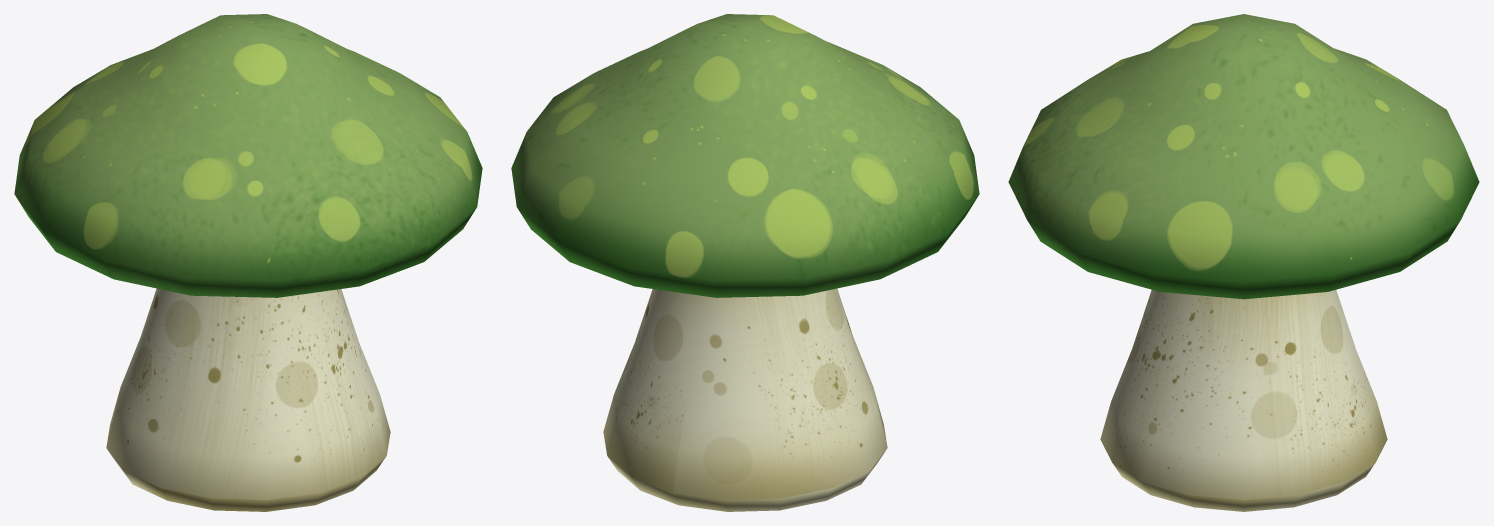
The model's file is MyceliumA.fbx.
The picture shows the model from 3 angles, left to right: view 1: azimuth 30°, elevation 25°; view 2: azimuth 150°, elevation 25°; view 3: azimuth 270°, elevation 25°; orthographic projection.
Visible parts, largest first — view 1: MyceliumParentA; view 2: MyceliumParentA; view 3: MyceliumParentA.
Part boxes in pixels (x1,y1,x2,y2): MyceliumParentA: (14, 14, 482, 511); MyceliumParentA: (511, 14, 979, 511); MyceliumParentA: (1008, 14, 1479, 511).
Bounding box in the file's own units: 19.58 × 19.84 × 19.58.
